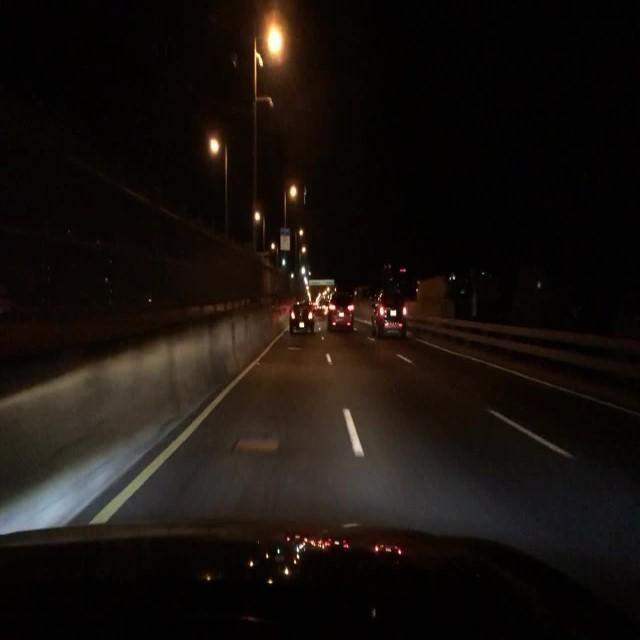normal: (280, 285, 424, 349), (369, 305, 405, 341), (326, 305, 354, 331)
